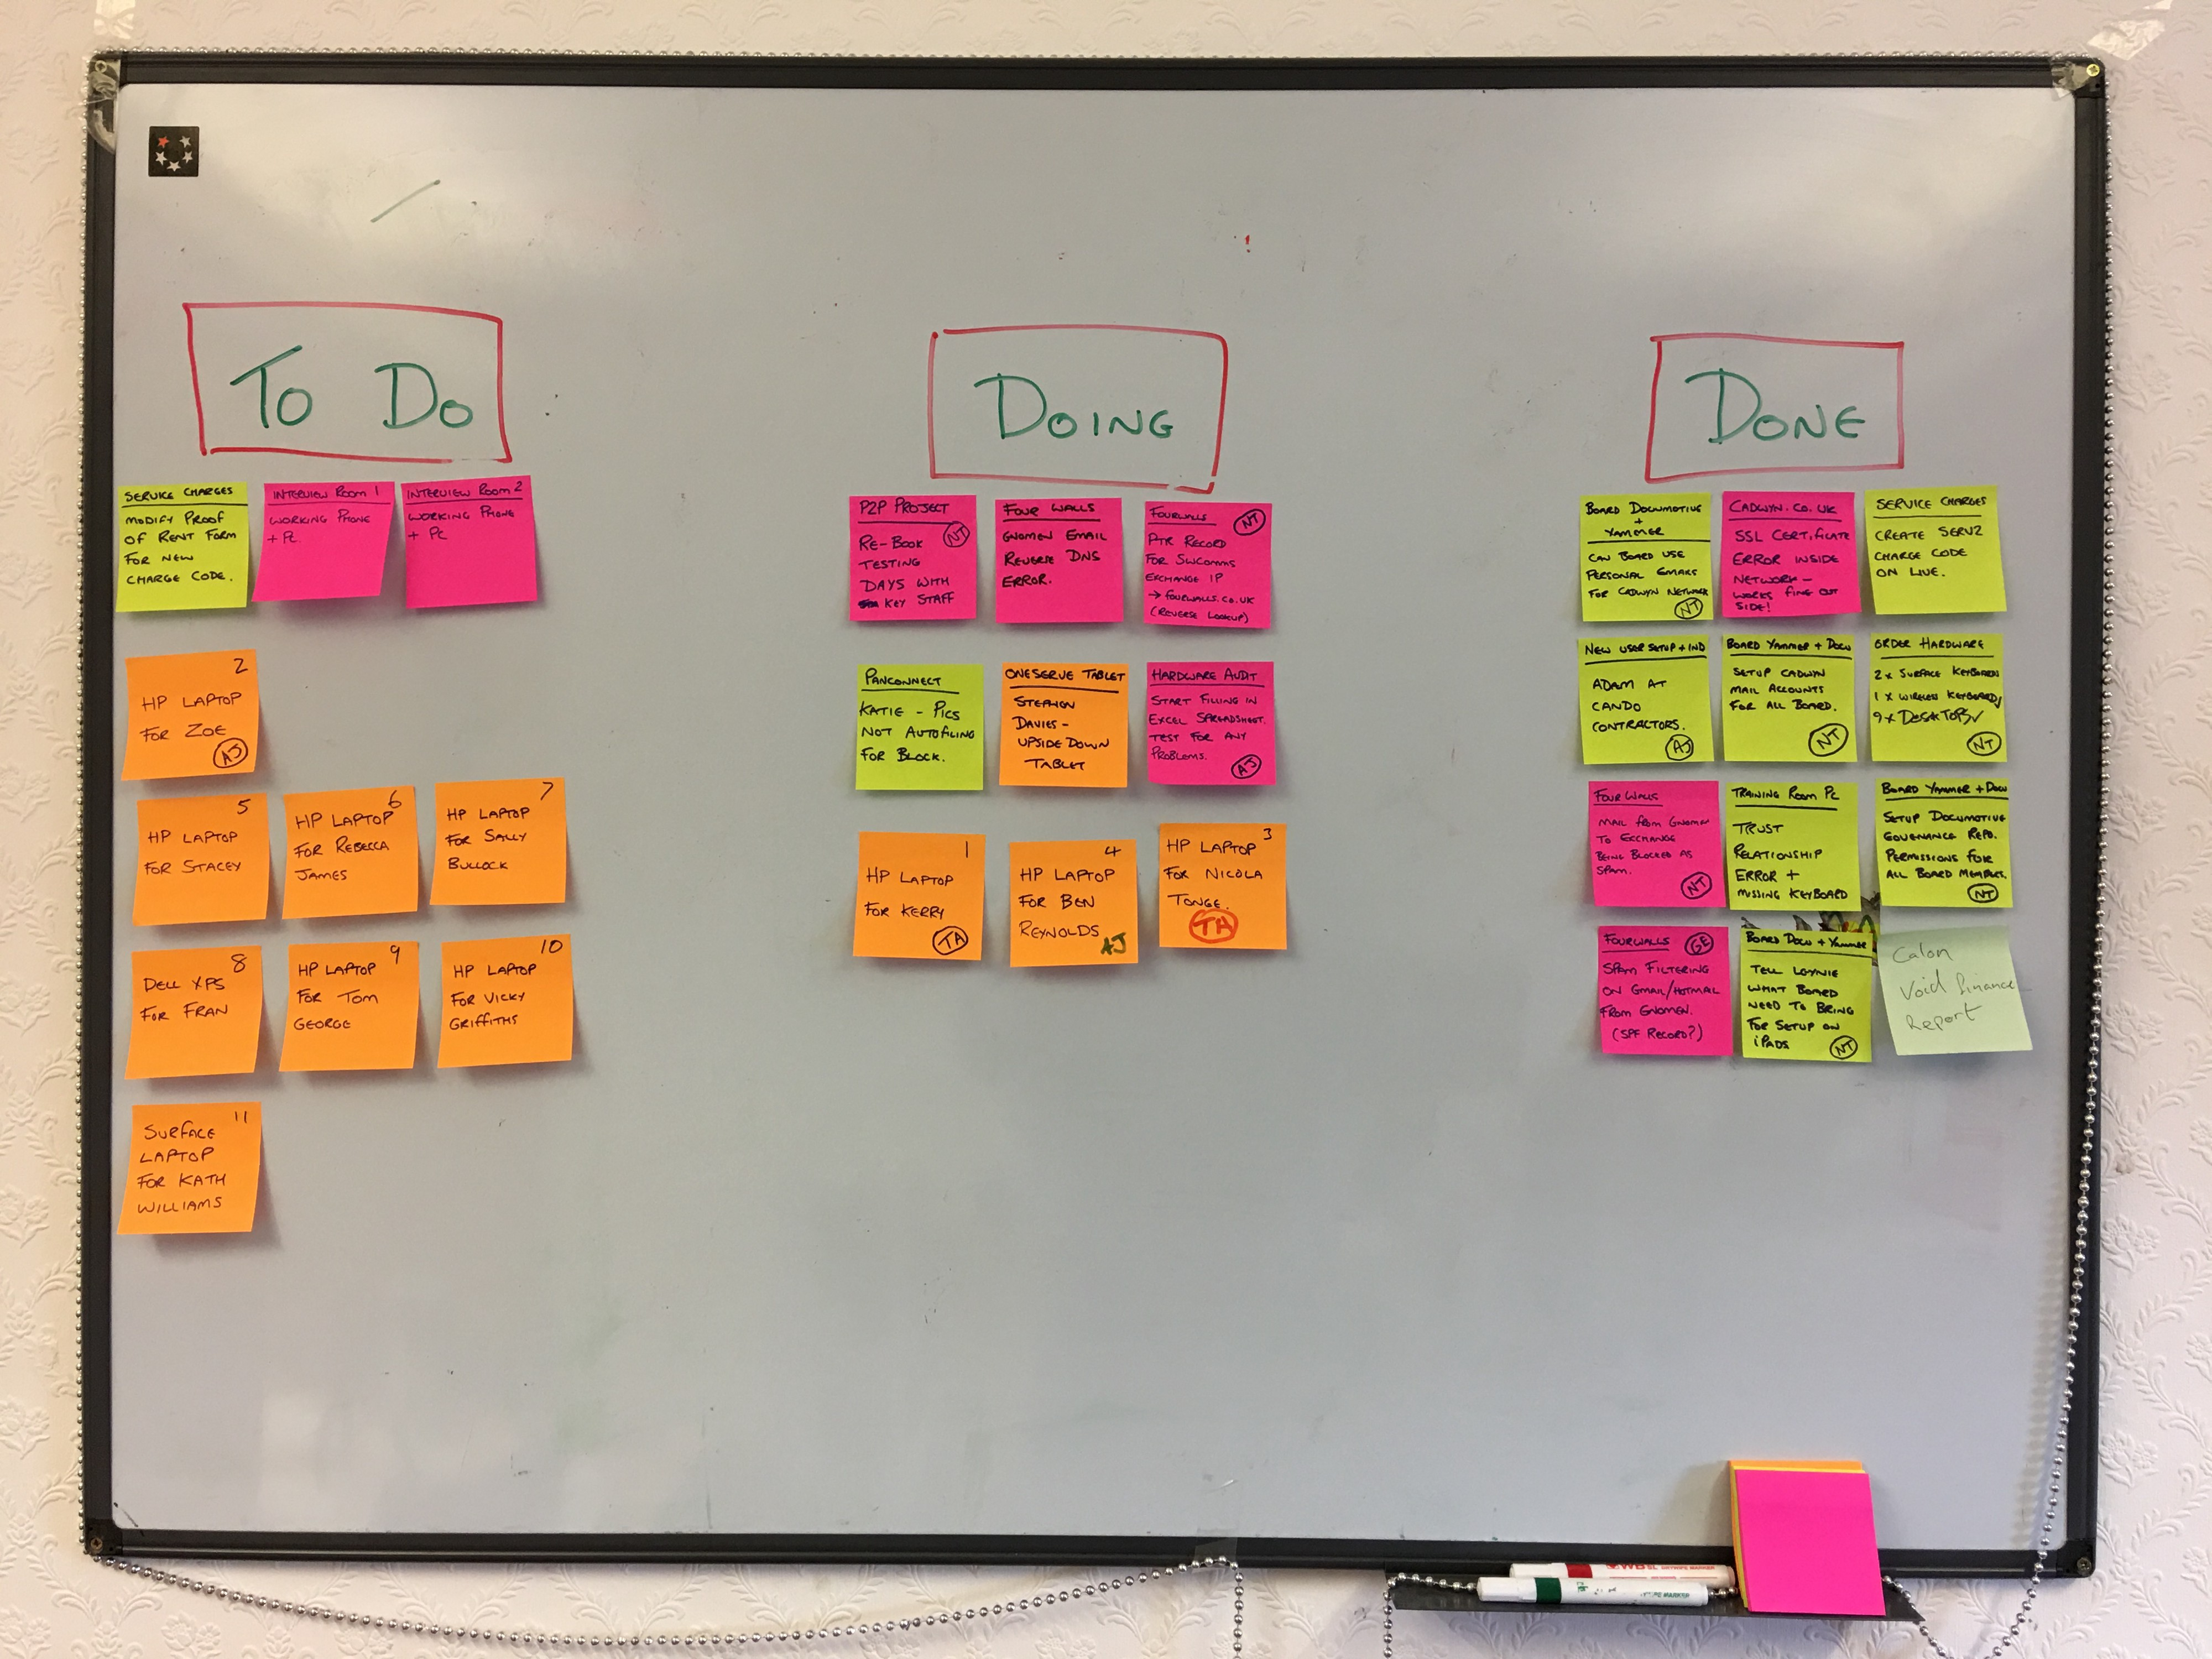stickynote: (115, 1097, 272, 1249), (1874, 917, 2036, 1065), (119, 935, 270, 1083), (1863, 618, 2016, 765), (432, 926, 581, 1079), (1863, 479, 2014, 627), (1714, 479, 1867, 624), (279, 935, 427, 1082), (1001, 833, 1151, 979), (1717, 624, 1865, 771), (1733, 920, 1874, 1073), (847, 824, 991, 973), (279, 781, 425, 924), (1871, 773, 2016, 917), (115, 648, 268, 784), (1582, 775, 1727, 917), (128, 790, 276, 926), (434, 775, 587, 909), (402, 471, 542, 617), (842, 486, 987, 627), (1157, 816, 1297, 956), (1136, 494, 1278, 633), (1595, 922, 1738, 1060), (1725, 775, 1865, 914), (993, 490, 1129, 633), (1144, 654, 1282, 792), (1578, 633, 1717, 771), (848, 660, 987, 799), (115, 482, 255, 618), (995, 660, 1131, 796), (1576, 488, 1714, 622), (259, 486, 400, 618)
